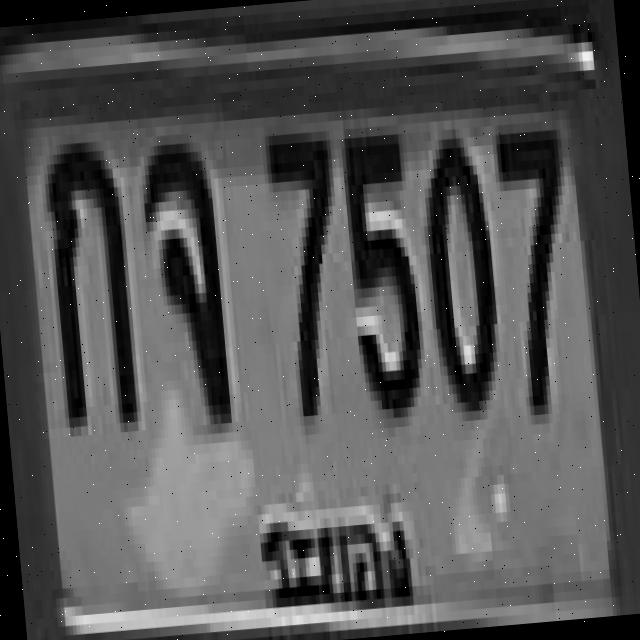0: (416, 127, 500, 404)
10GorGai: (41, 130, 138, 428)
17ChorChan: (134, 132, 227, 419)
5: (336, 124, 421, 411)
7: (260, 120, 350, 418), (491, 120, 576, 407)
Rayong: (244, 467, 423, 637)
